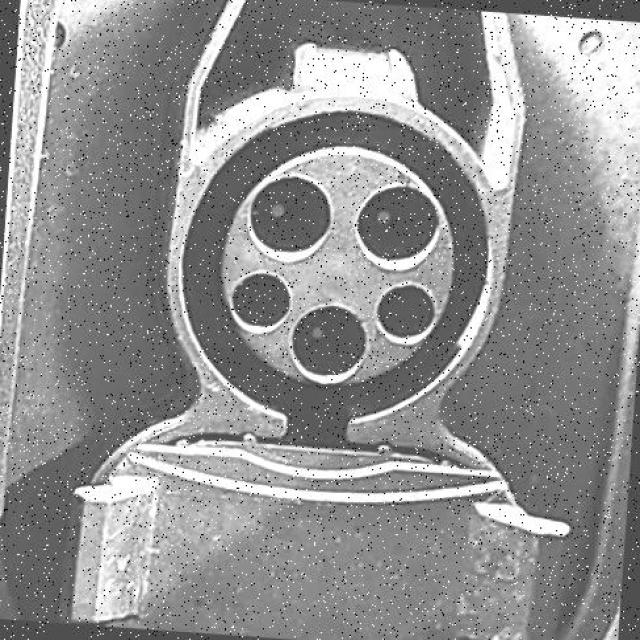Type 1: (122, 79, 554, 413)
